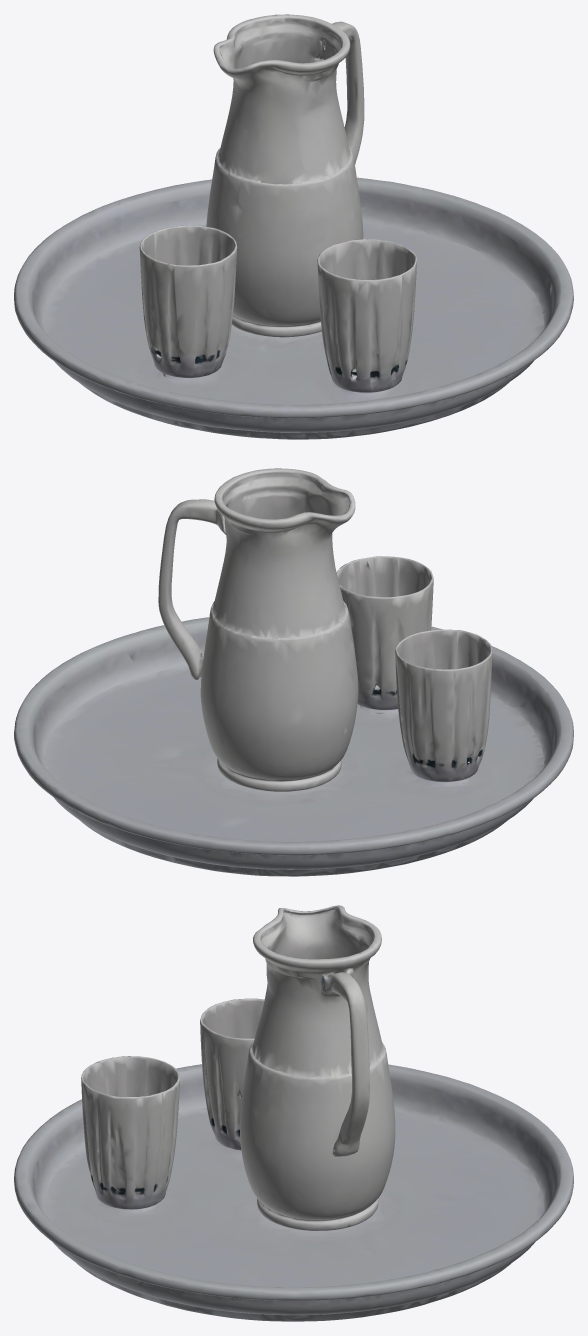
The model's file is tray_set.fbx.
The picture shows the model from 3 angles, top to bottom: view 1: azimuth 30°, elevation 25°; view 2: azimuth 150°, elevation 25°; view 3: azimuth 270°, elevation 25°; orthographic projection.
Visible parts, largest first — view 1: tripo_node_8d01a4ef-55ef-477e-be58-e0a42894254c; view 2: tripo_node_8d01a4ef-55ef-477e-be58-e0a42894254c; view 3: tripo_node_8d01a4ef-55ef-477e-be58-e0a42894254c.
Boxes of the visible parts, <box> form: tripo_node_8d01a4ef-55ef-477e-be58-e0a42894254c: <box>14,14,573,439</box>; tripo_node_8d01a4ef-55ef-477e-be58-e0a42894254c: <box>14,468,573,876</box>; tripo_node_8d01a4ef-55ef-477e-be58-e0a42894254c: <box>14,905,573,1321</box>.
Size of the model in its own units: 157 by 90 by 157.
